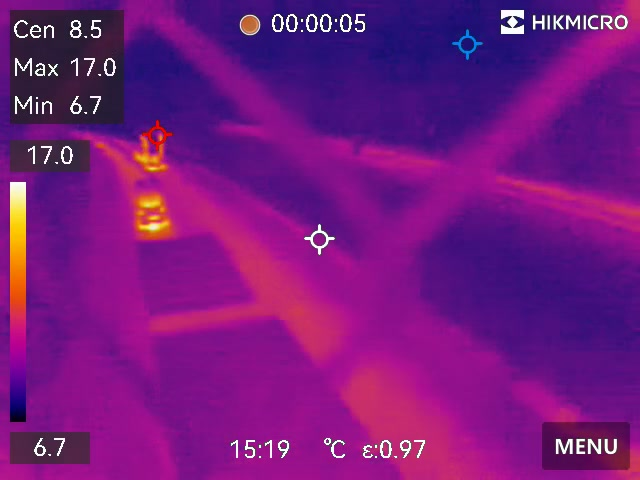vehicle: (126, 181, 174, 239)
